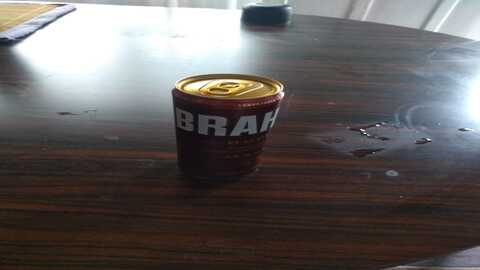duplo_malte: (169, 74, 286, 194)
